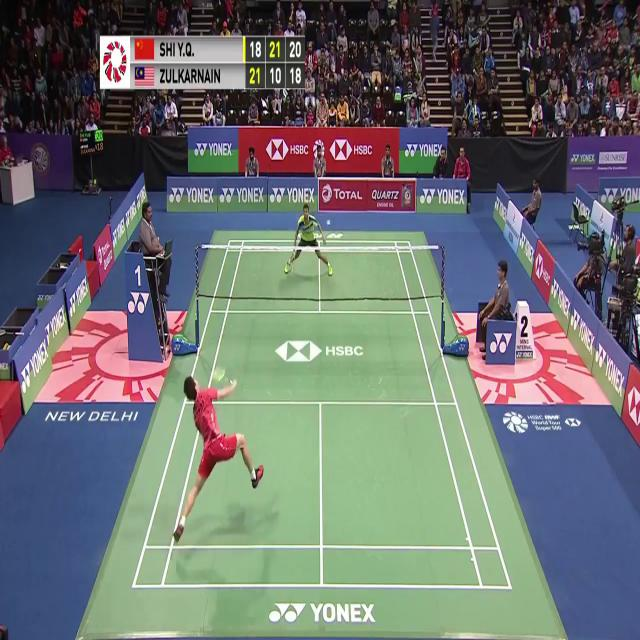Shuttlecock: (326, 216, 333, 227)
